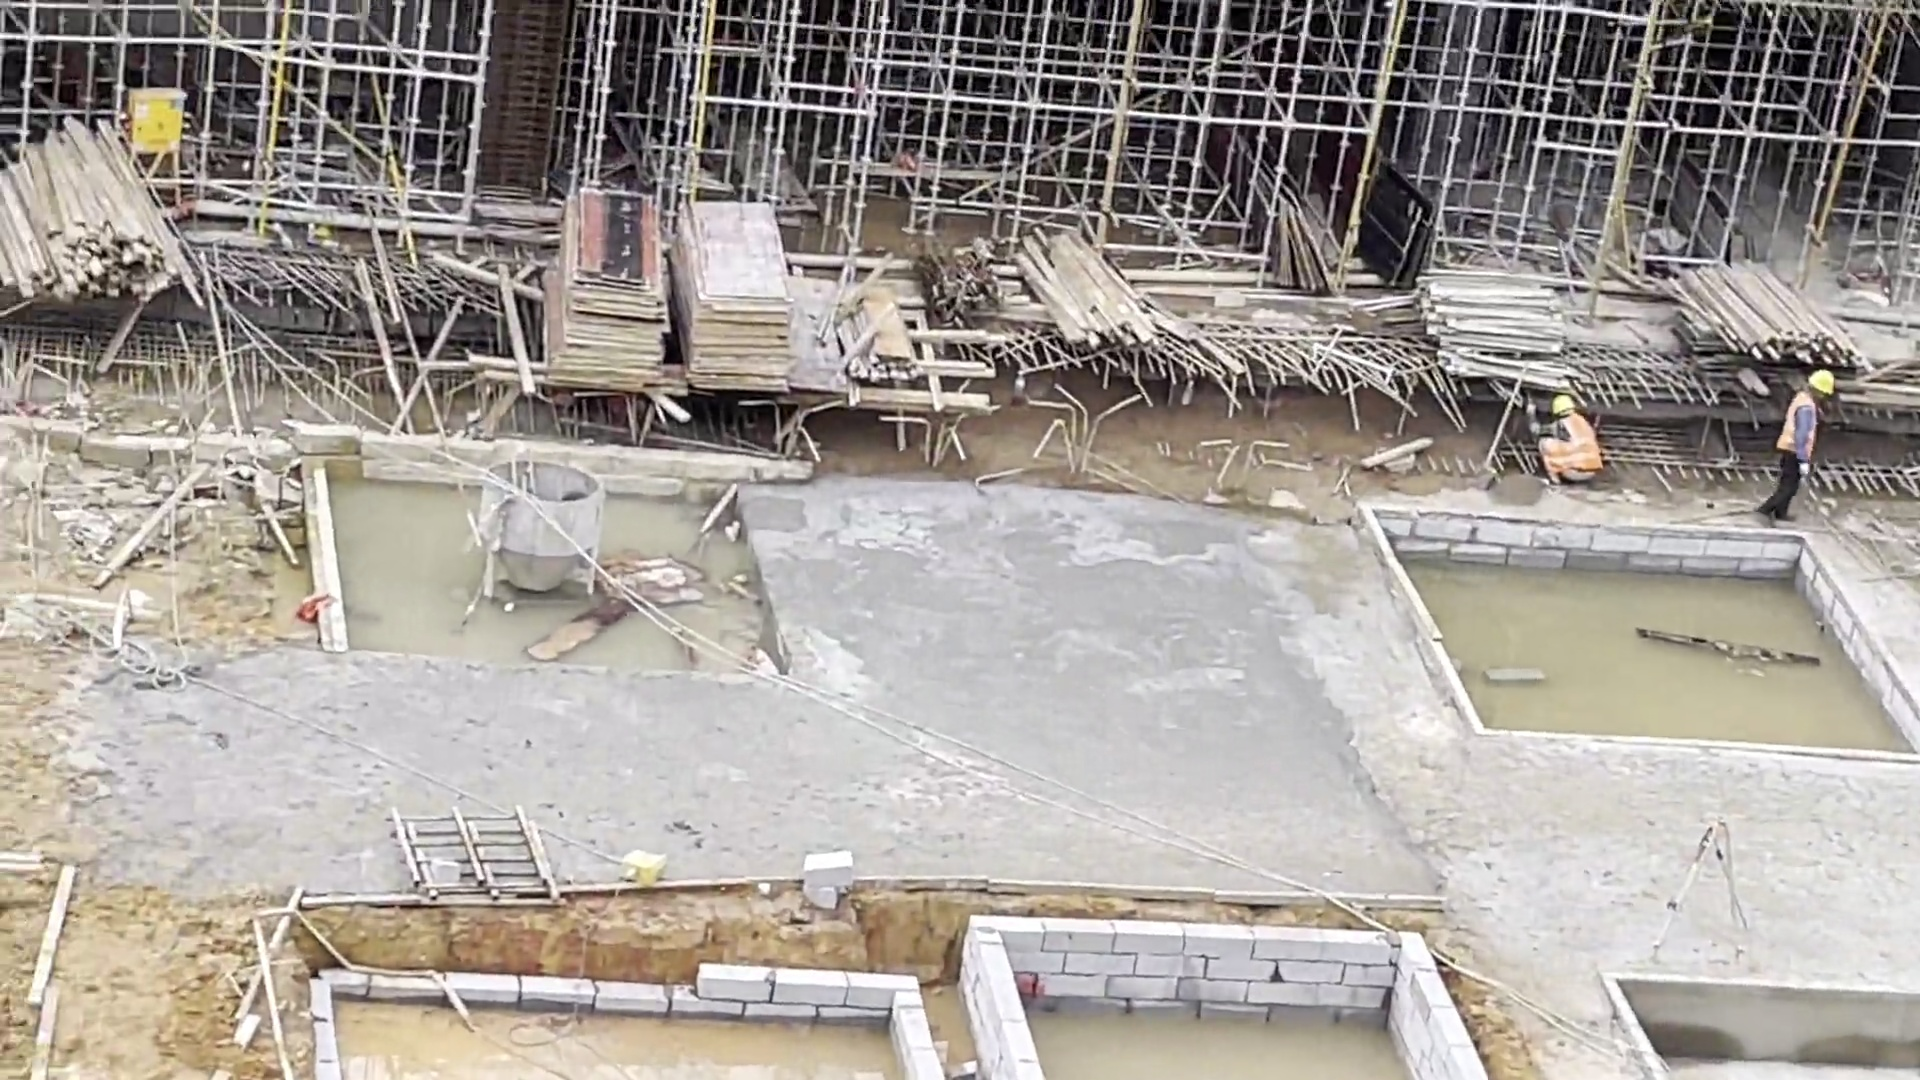board: (671, 201, 792, 392), (545, 199, 662, 388)
brick: (1005, 915, 1378, 1023), (1395, 515, 1778, 577), (333, 971, 665, 1012), (1387, 940, 1477, 1080), (670, 961, 905, 1014), (961, 922, 1033, 1080), (891, 991, 936, 1080), (311, 969, 335, 1076)
ebox: (129, 87, 192, 191)
helmet: (1804, 371, 1828, 392), (1553, 393, 1568, 406)
person: (1760, 372, 1833, 529), (1523, 392, 1605, 487)
vest: (1545, 425, 1591, 472), (1783, 393, 1811, 456)
wood: (5, 114, 182, 301)
